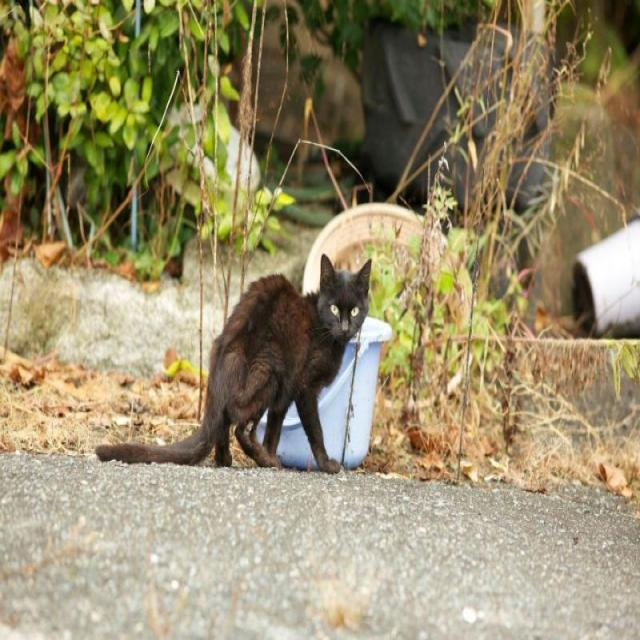cat: (96, 255, 371, 473)
